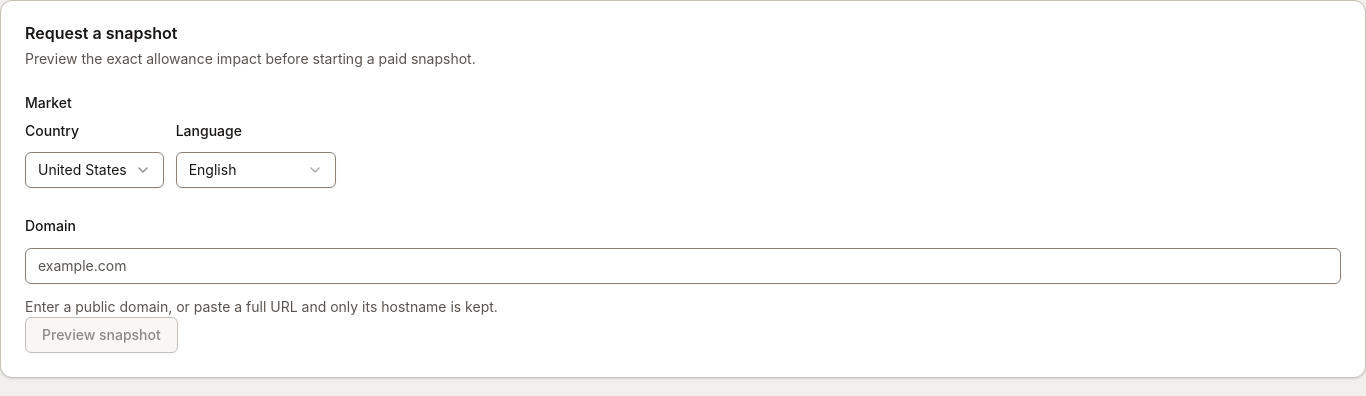
Test: SnapshotRequestForm market › falls back to the raw code when a language has no display name
The width and height of the screenshot is (1366, 396).
What coordinates should you click on to do the following:
click the dropdown named "Language"
I would click on:
 (256, 170)
Its box is [176,152,336,188].
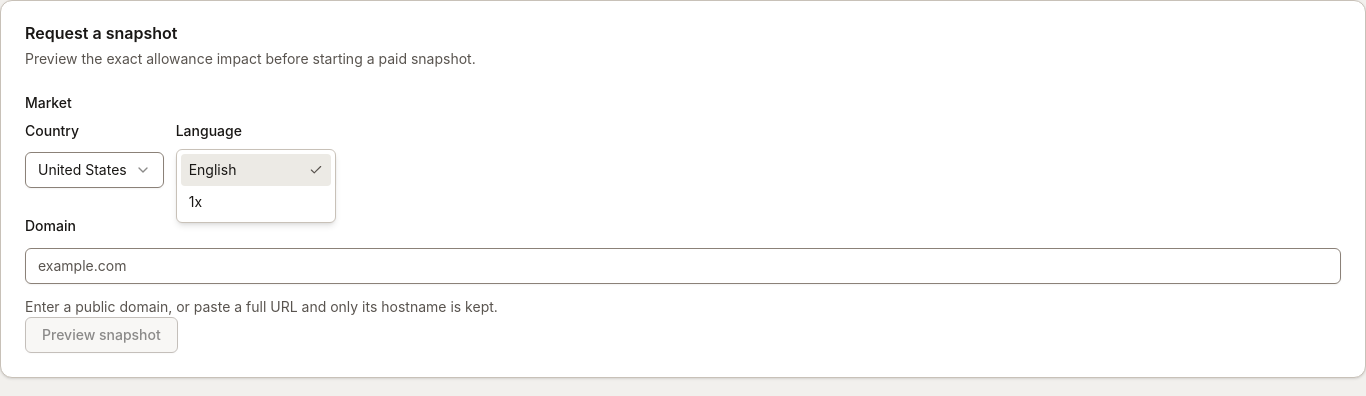
Now the option "1x" is shown, box [189,193,202,210]
